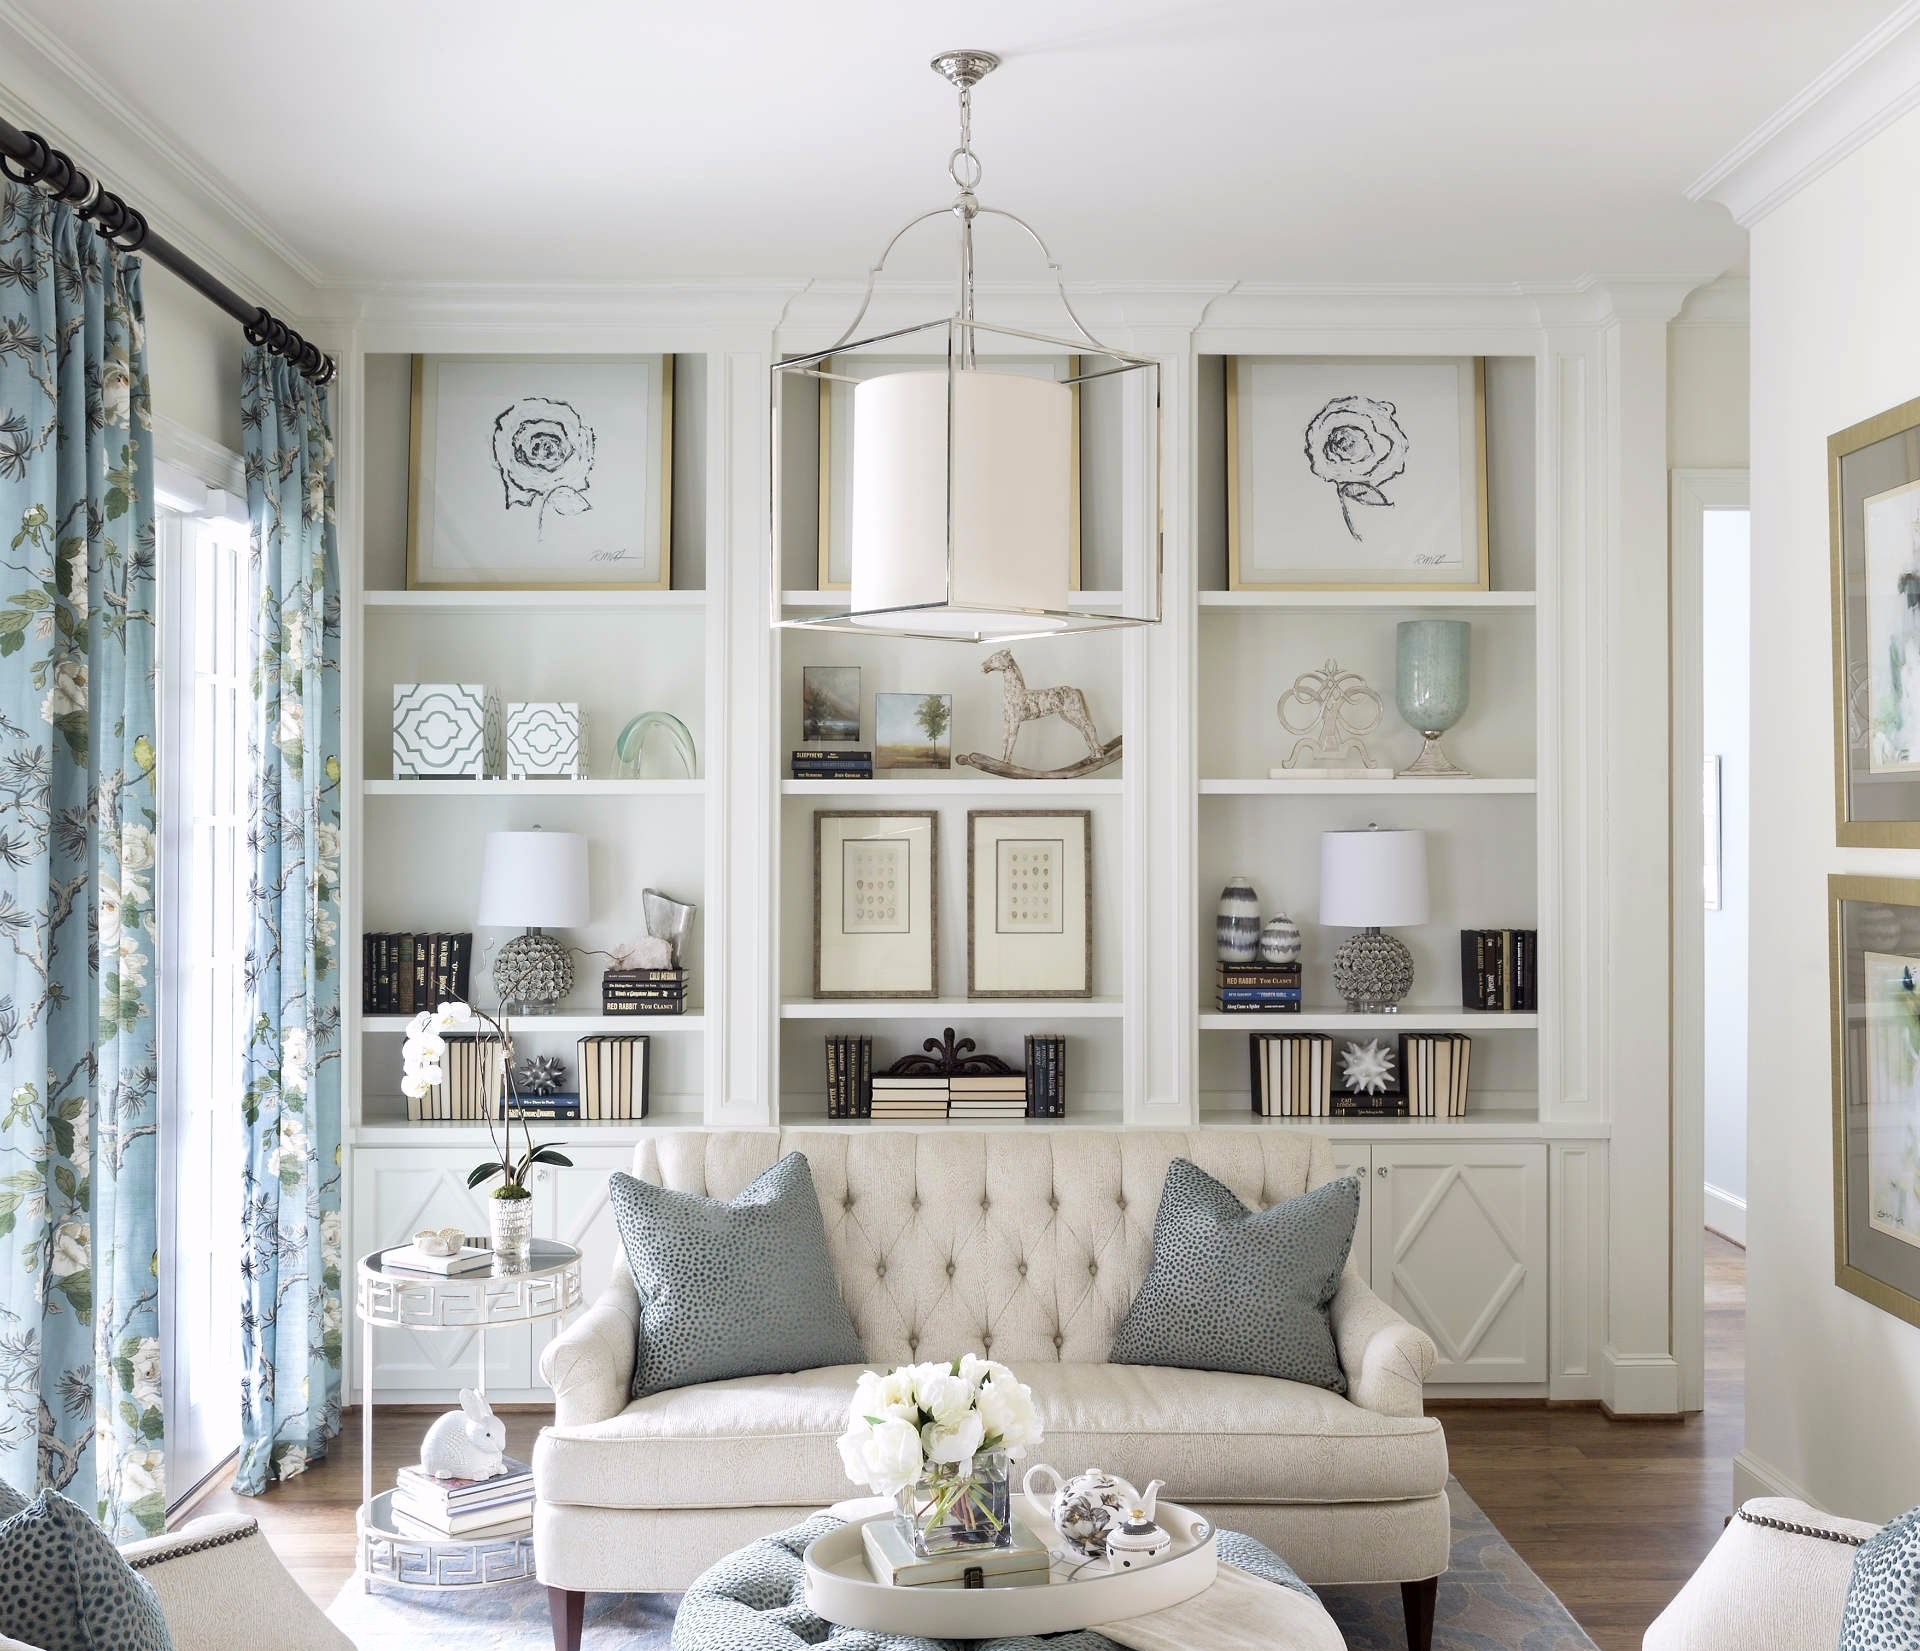bantal: (619, 1161, 869, 1391), (1131, 1163, 1345, 1385)
buku: (859, 1530, 1055, 1595), (397, 1462, 532, 1535), (367, 928, 469, 1016), (870, 1070, 1025, 1125), (1460, 919, 1540, 1012), (1399, 1030, 1474, 1120), (1252, 1034, 1326, 1120), (576, 1035, 650, 1120), (599, 968, 692, 1021), (385, 1235, 491, 1280), (1215, 967, 1304, 1021), (820, 1035, 870, 1127), (447, 1044, 504, 1120), (1027, 1034, 1071, 1120), (792, 746, 882, 789)
lampu: (1316, 818, 1437, 1006), (470, 821, 586, 1006)
lukisan: (1221, 361, 1497, 603), (402, 354, 678, 594), (962, 805, 1104, 1001), (810, 805, 939, 1004), (869, 683, 957, 776)
sova: (527, 1119, 1445, 1646)
tanaman: (402, 988, 544, 1261), (849, 1355, 1027, 1558)
